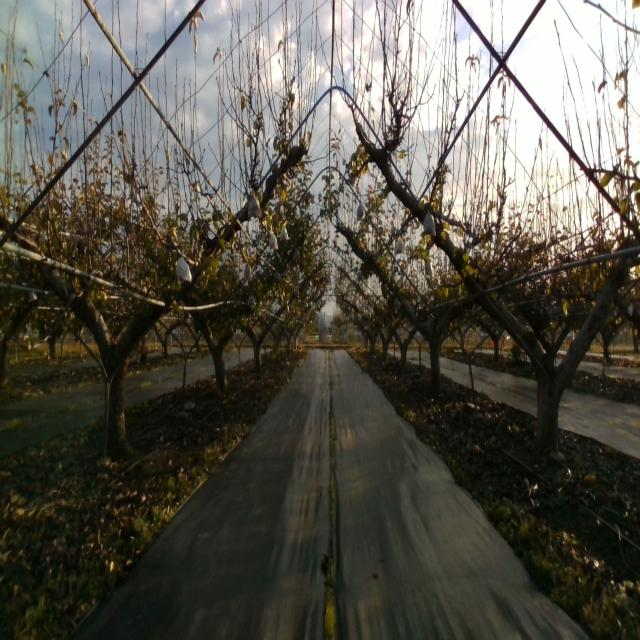pearbags: (176, 249, 192, 284), (421, 208, 436, 236), (248, 192, 262, 218)
